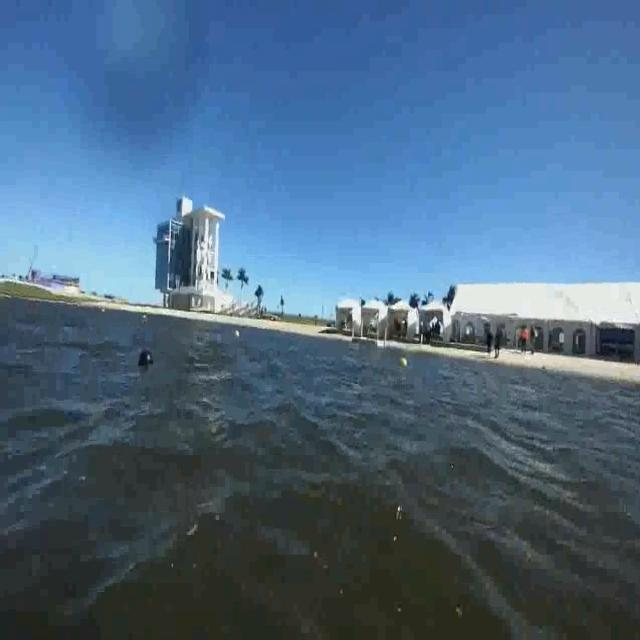black-buoy: (136, 348, 154, 369)
yellow-buoy: (398, 355, 408, 369)
